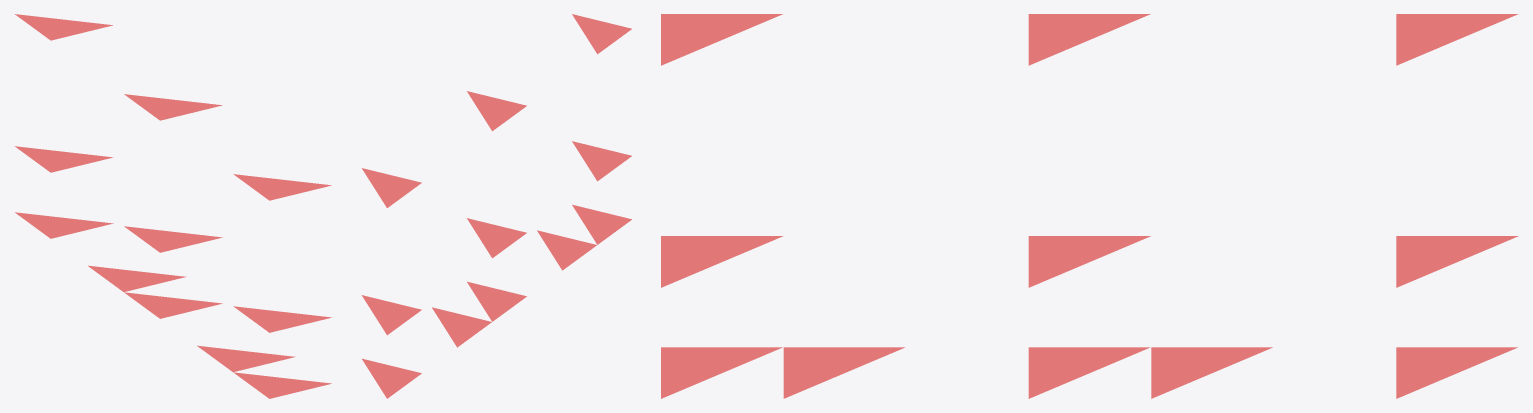
File: ghz-state.dae
The picture shows the model from 3 angles, left to right: view 1: azimuth 30°, elevation 25°; view 2: azimuth 150°, elevation 25°; view 3: azimuth 270°, elevation 25°; orthographic projection. The views are drawn at different scales.
Parts seen in each view (by area): view 1: zxx (×6), zxo (×3), zox (×2); view 2: zxx (×6), zxo (×3), zox (×2); view 3: zxx (×6), zxo (×3), zox (×2).
Part boxes in pixels (bbox=[...]): zxx (×6): bbox=[15, 14, 331, 398]; zxo (×3): bbox=[14, 146, 331, 332]; zox (×2): bbox=[88, 265, 295, 372]; zxx (×6): bbox=[362, 14, 631, 398]; zxo (×3): bbox=[361, 141, 631, 335]; zox (×2): bbox=[432, 230, 596, 347]; zxx (×6): bbox=[661, 14, 1518, 398]; zxo (×3): bbox=[661, 236, 1518, 287]; zox (×2): bbox=[783, 347, 1272, 398].
Bounding box in the file's own units: 1 × 7 × 3.
